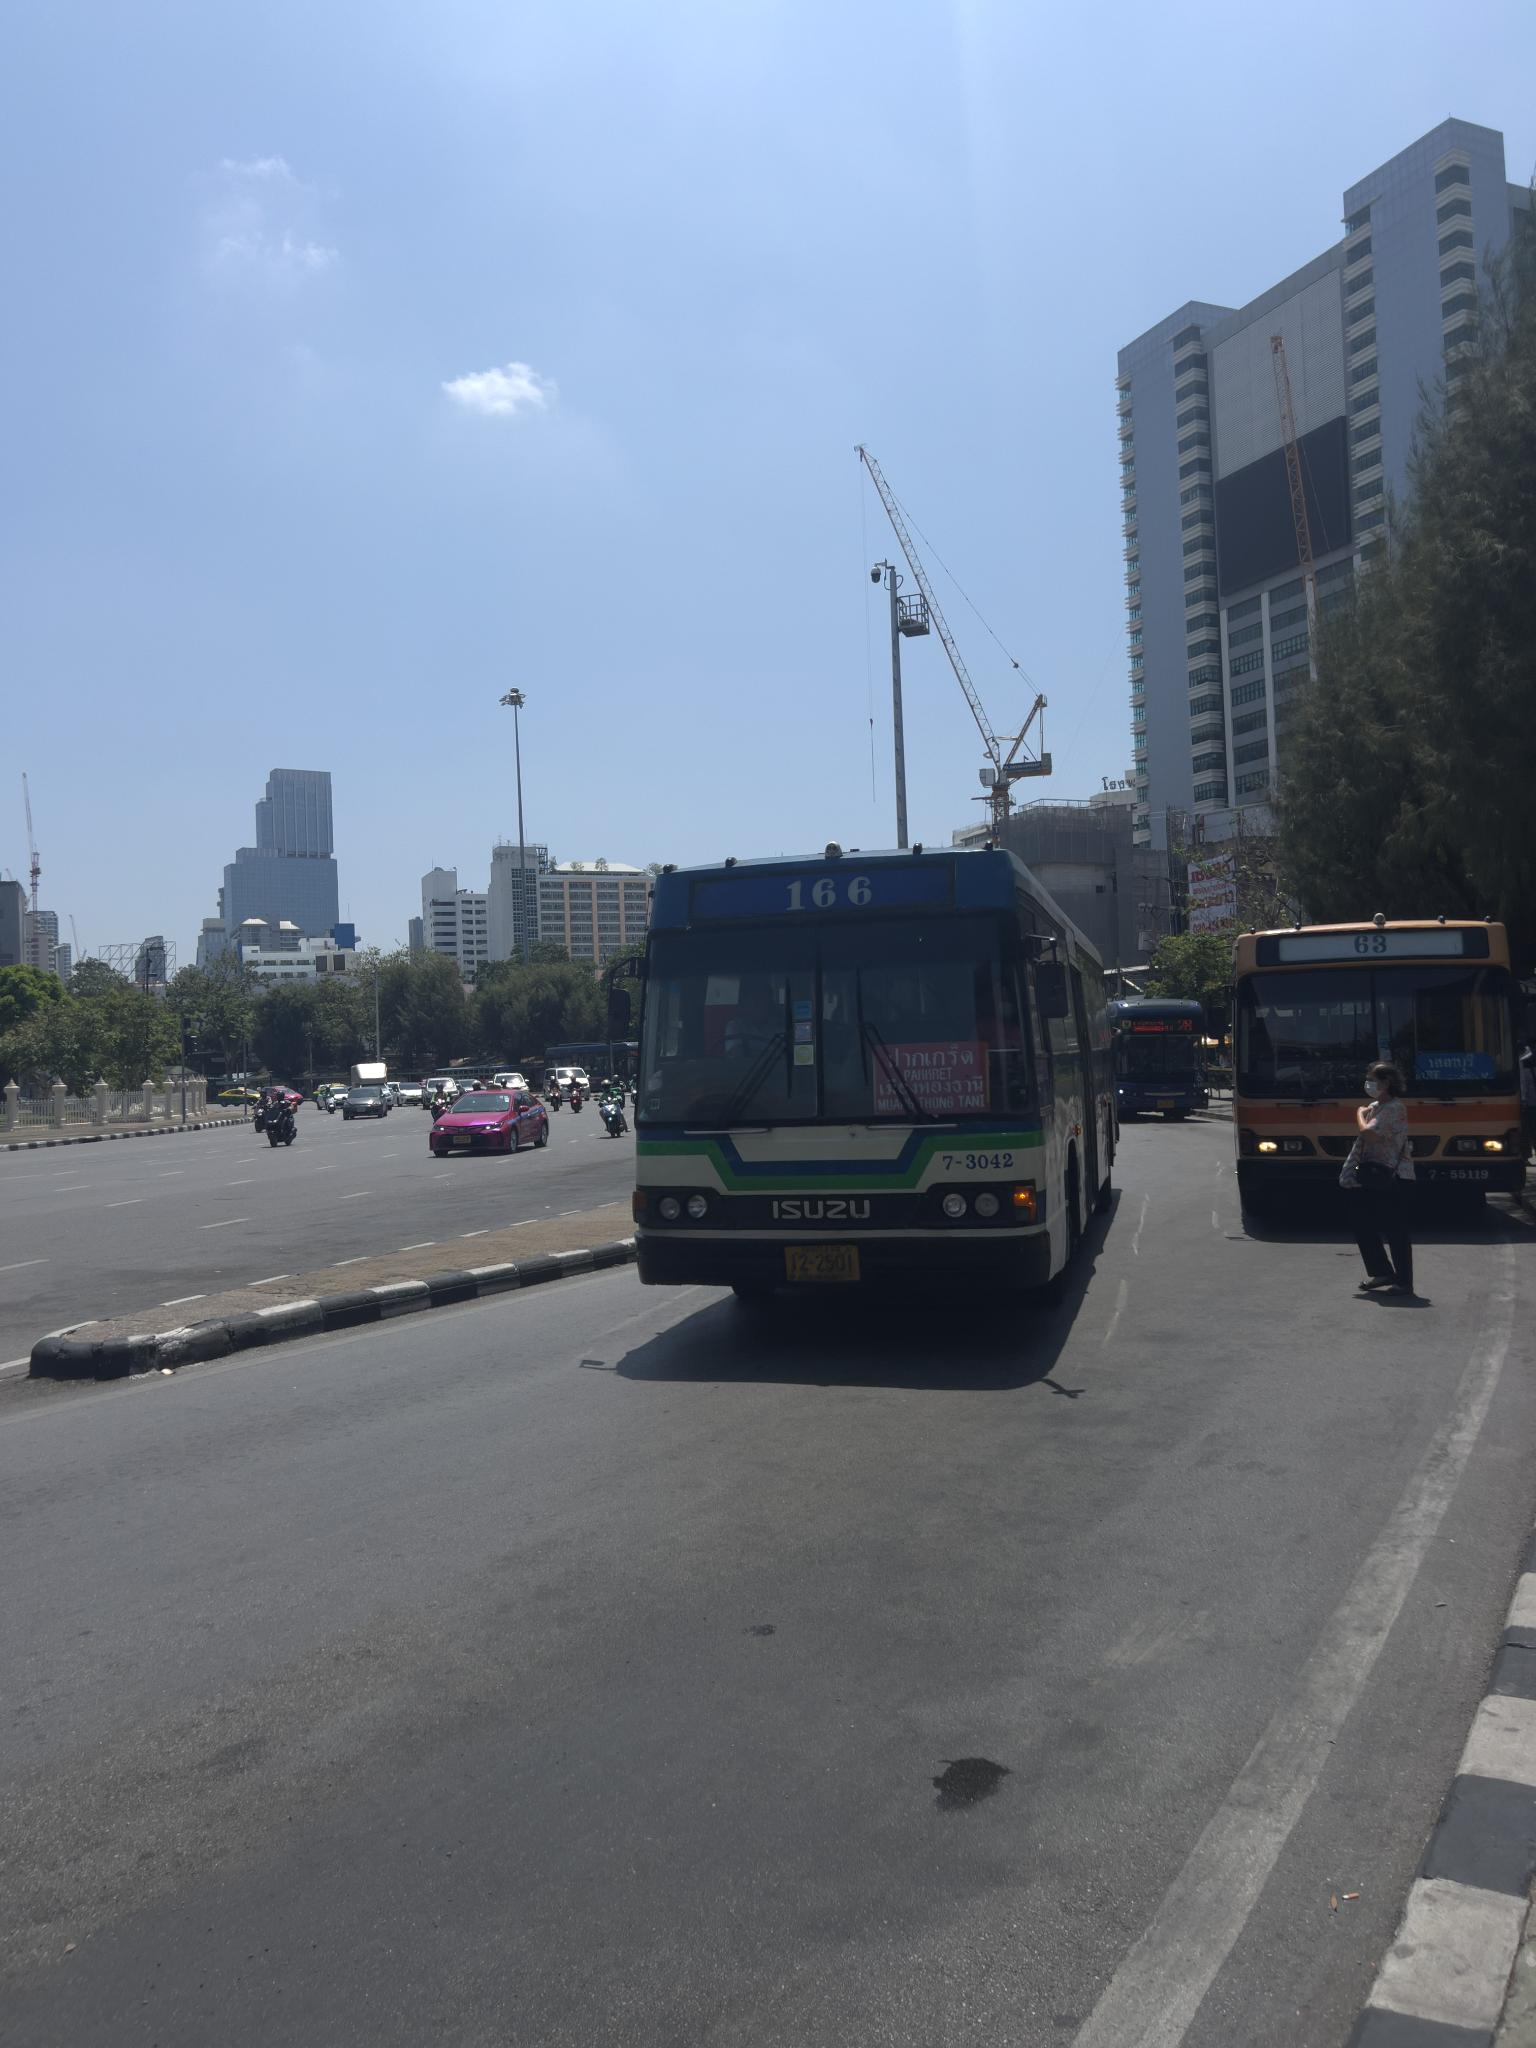BMTA-bus: (629, 845, 1118, 1347), (1233, 924, 1536, 1250)
Bus Line Number: (786, 872, 879, 913), (1347, 929, 1391, 956), (1175, 1018, 1196, 1032)
Bus Side Number: (933, 1145, 1020, 1172), (1423, 1164, 1492, 1182), (1192, 1082, 1207, 1087)
Destination Sign: (873, 1043, 991, 1118), (1417, 1051, 1499, 1080), (1131, 1016, 1175, 1032)
TSB-Bus: (1115, 1001, 1215, 1124)
